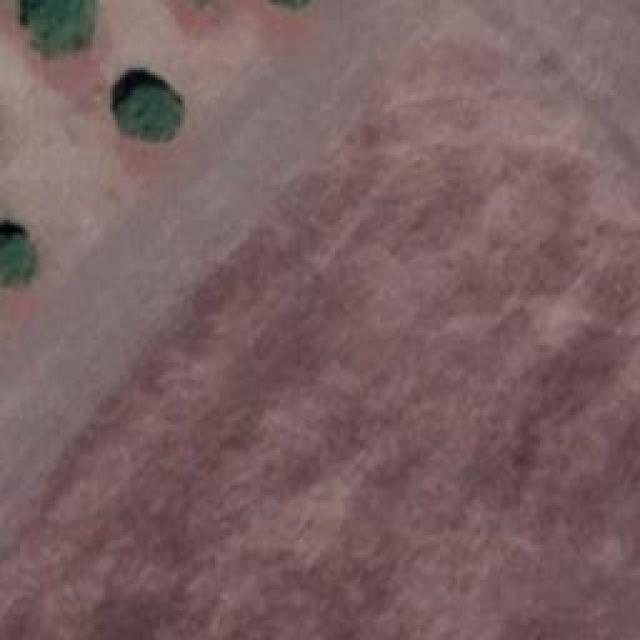Tree: (18, 0, 88, 58), (125, 82, 178, 140), (0, 225, 40, 295)
